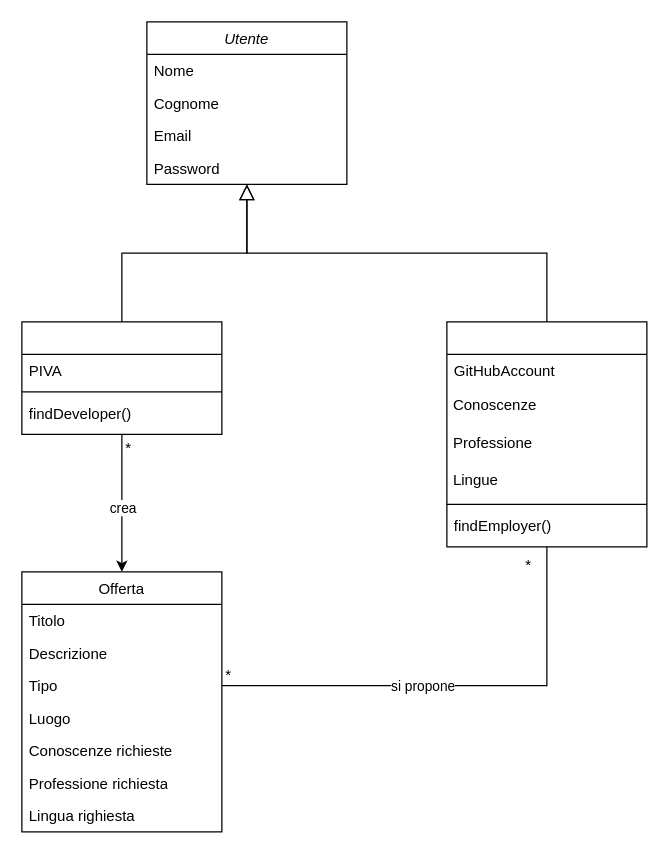
Image size: 669x858. Some labels were removed from this diagram. The shapes that lost their labels are listed below. From the top down, each one's box as (x1, y1, x2, y2) in pixels, then its label:
(21, 321, 222, 434): Employer
(446, 321, 647, 547): Sviluppatore
